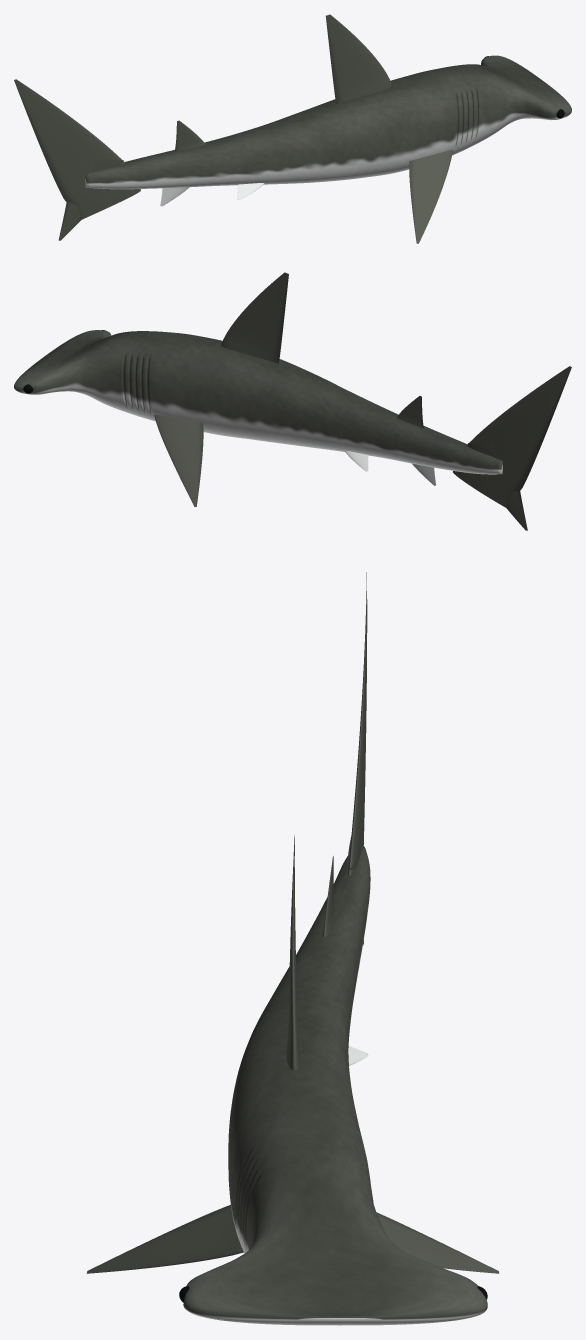
File: great_hammerhead.glb
The picture shows the model from 3 angles, top to bottom: view 1: azimuth 30°, elevation 25°; view 2: azimuth 150°, elevation 25°; view 3: azimuth 270°, elevation 25°; orthographic projection. The views are drawn at different scales.
Visible parts, largest first — view 1: GreatHammerhead_Body, GreatHammerhead_Fins; view 2: GreatHammerhead_Body, GreatHammerhead_Fins; view 3: GreatHammerhead_Body, GreatHammerhead_Fins.
Boxes of the visible parts, x1=… form: GreatHammerhead_Body: x1=85, y1=55, x2=571, y2=189; GreatHammerhead_Fins: x1=14, y1=14, x2=452, y2=243; GreatHammerhead_Body: x1=14, y1=330, x2=502, y2=474; GreatHammerhead_Fins: x1=154, y1=272, x2=571, y2=530; GreatHammerhead_Body: x1=183, y1=845, x2=487, y2=1325; GreatHammerhead_Fins: x1=86, y1=572, x2=499, y2=1273.
Bounding box in the file's own units: 4.2 × 1.54 × 1.44.
3 materials, 1 textured.
